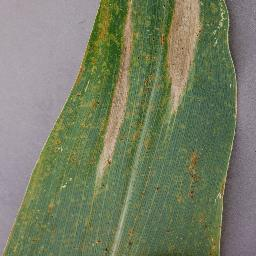Corn_Blight: (81, 2, 147, 186), (159, 0, 199, 124), (32, 102, 72, 191), (182, 145, 206, 206), (191, 214, 225, 254), (202, 0, 233, 42), (96, 226, 137, 256), (31, 192, 60, 232), (7, 240, 43, 255), (216, 178, 234, 201), (155, 182, 164, 198)
